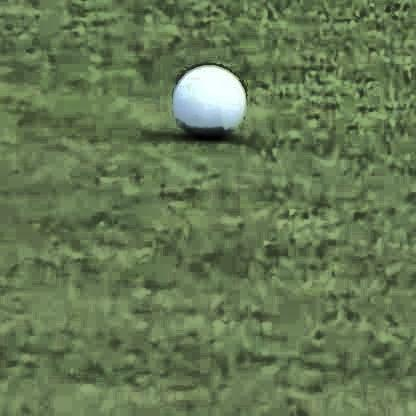golfball: (171, 56, 242, 133)
